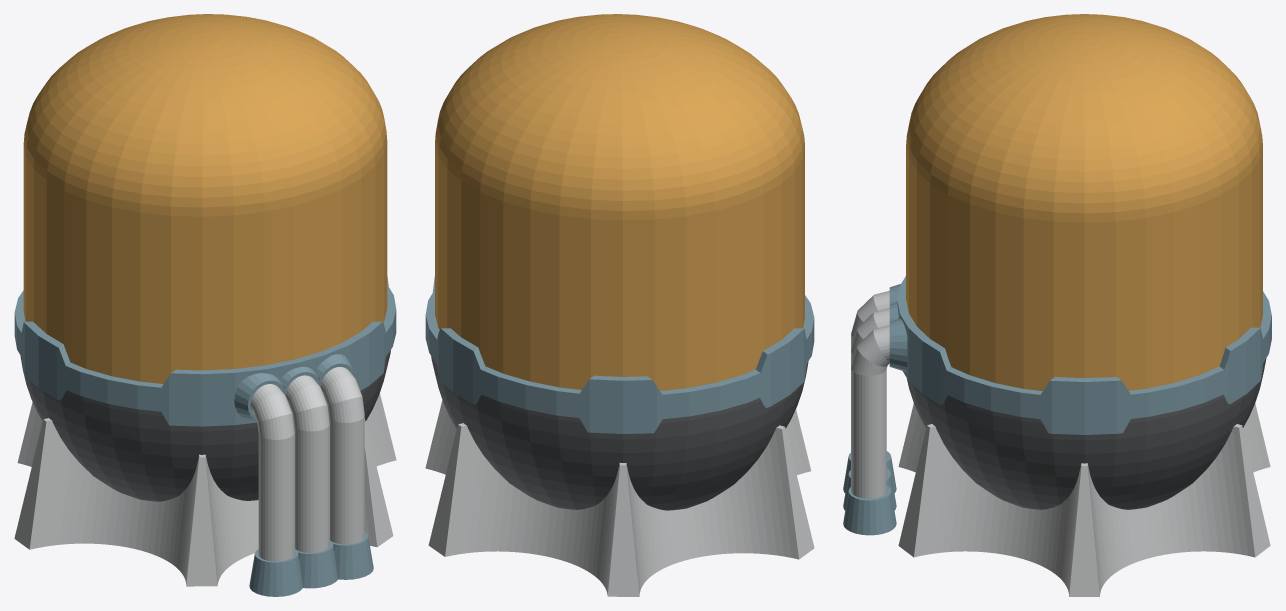
The model's file is GLTF_test.glb.
The picture shows the model from 3 angles, left to right: view 1: azimuth 30°, elevation 25°; view 2: azimuth 150°, elevation 25°; view 3: azimuth 270°, elevation 25°; orthographic projection.
Parts seen in each view (by area): view 1: Mesh_Mesh_head_geo.001_lambert2SG.001; view 2: Mesh_Mesh_head_geo.001_lambert2SG.001; view 3: Mesh_Mesh_head_geo.001_lambert2SG.001.
Boxes of the visible parts, <box> form: Mesh_Mesh_head_geo.001_lambert2SG.001: <box>14,14,396,596</box>; Mesh_Mesh_head_geo.001_lambert2SG.001: <box>425,14,814,596</box>; Mesh_Mesh_head_geo.001_lambert2SG.001: <box>843,14,1271,596</box>.
Size of the model in its own units: 10 by 12 by 10.
